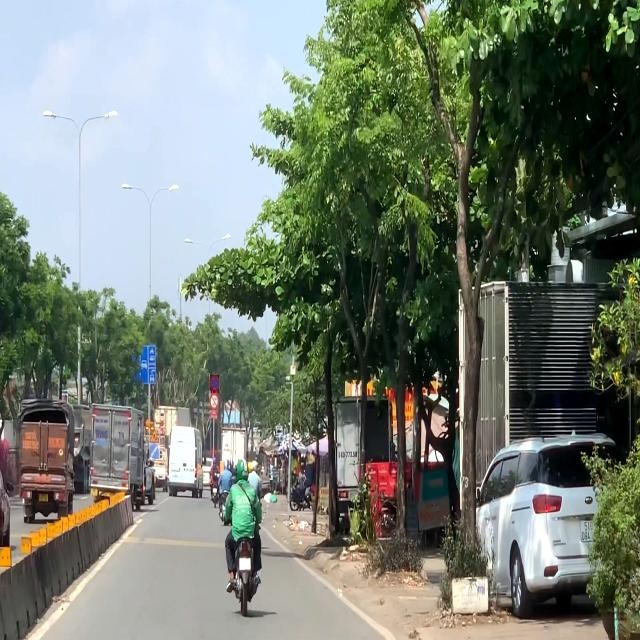bien_cam: (149, 443, 159, 460), (210, 375, 219, 393)
